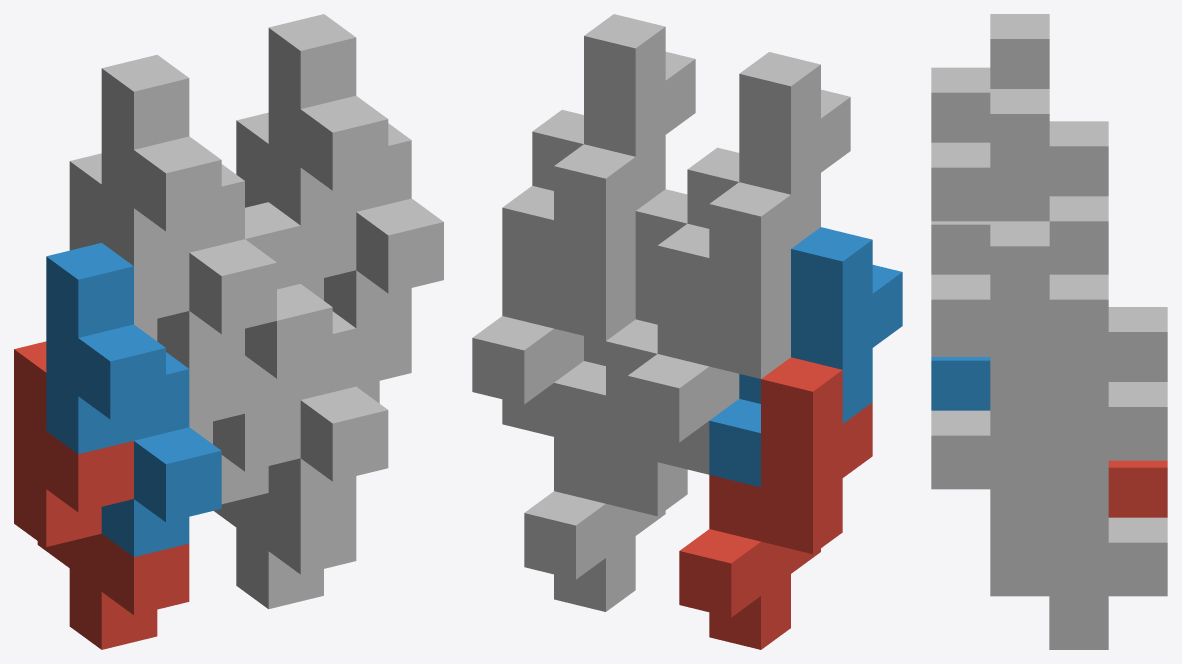
File: tiling.obj
3 views of the same model, side by side, from view 1: azimuth 30°, elevation 25°; view 2: azimuth 150°, elevation 25°; view 3: azimuth 270°, elevation 25° (orthographic). The views are drawn at different scales.
Parts seen in each view (by area): view 1: copy_1_domain_4, copy_1_domain_8, copy_1_domain_2, copy_1_domain_1, copy_1_domain_6, copy_1_domain_5, copy_1_domain_3, copy_1_domain_7; view 2: copy_1_domain_1, copy_1_domain_3, copy_1_domain_7, copy_1_domain_5, copy_1_domain_4, copy_1_domain_8, copy_1_domain_2, copy_1_domain_6; view 3: copy_1_domain_8, copy_1_domain_7, copy_1_domain_5, copy_1_domain_4, copy_1_domain_6, copy_1_domain_3, copy_1_domain_1, copy_1_domain_2.
Boxes of the visible parts, x1,y1,x2,y2 form: copy_1_domain_4: (101,54,276,368); copy_1_domain_8: (268,14,443,328); copy_1_domain_2: (46,243,221,556); copy_1_domain_1: (14,341,189,649); copy_1_domain_6: (245,202,388,516); copy_1_domain_5: (213,400,356,609); copy_1_domain_3: (69,153,244,443); copy_1_domain_7: (236,112,411,403); copy_1_domain_1: (679,357,872,649); copy_1_domain_3: (627,182,790,474); copy_1_domain_7: (472,144,635,436); copy_1_domain_5: (524,319,687,611); copy_1_domain_4: (657,52,850,311); copy_1_domain_8: (502,14,695,274); copy_1_domain_2: (709,227,902,487); copy_1_domain_6: (554,189,687,449); copy_1_domain_8: (931,89,1108,406); copy_1_domain_7: (990,196,1167,514); copy_1_domain_5: (990,514,1167,649); copy_1_domain_4: (931,14,1049,274); copy_1_domain_6: (931,353,1049,542); copy_1_domain_3: (1049,121,1167,381); copy_1_domain_1: (1108,460,1167,517); copy_1_domain_2: (931,357,990,410).
Size of the model in its own units: 6 by 10 by 4.
